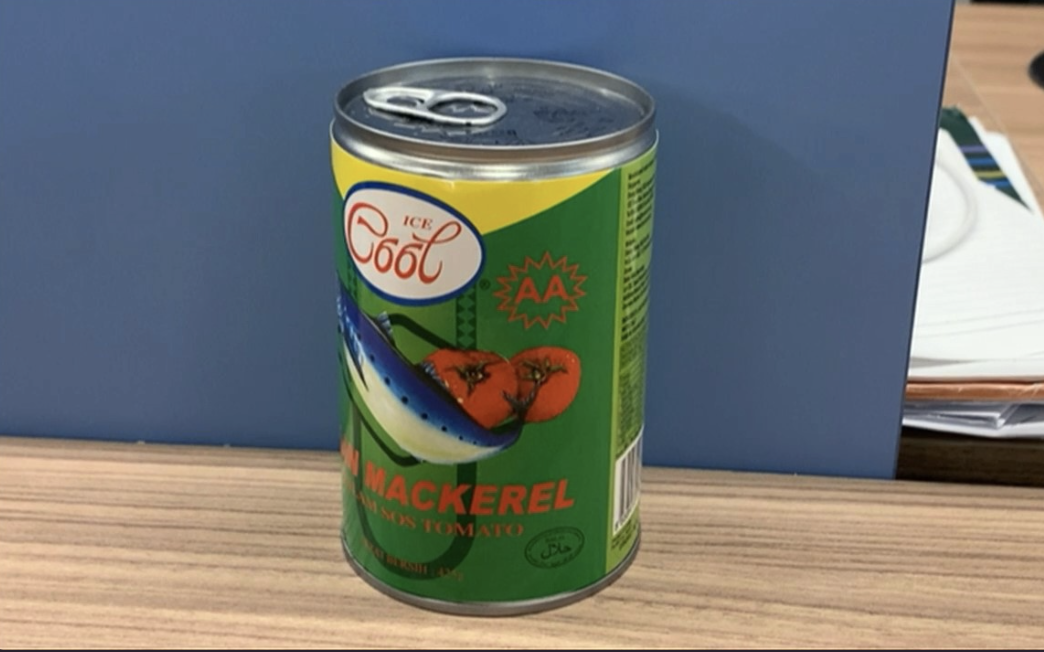sardines_400g-499g: (341, 140, 635, 576)
